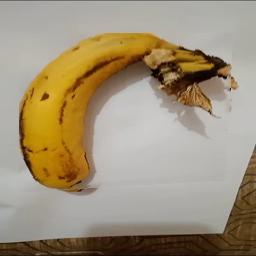Banana Semifresh: (20, 33, 235, 193)
